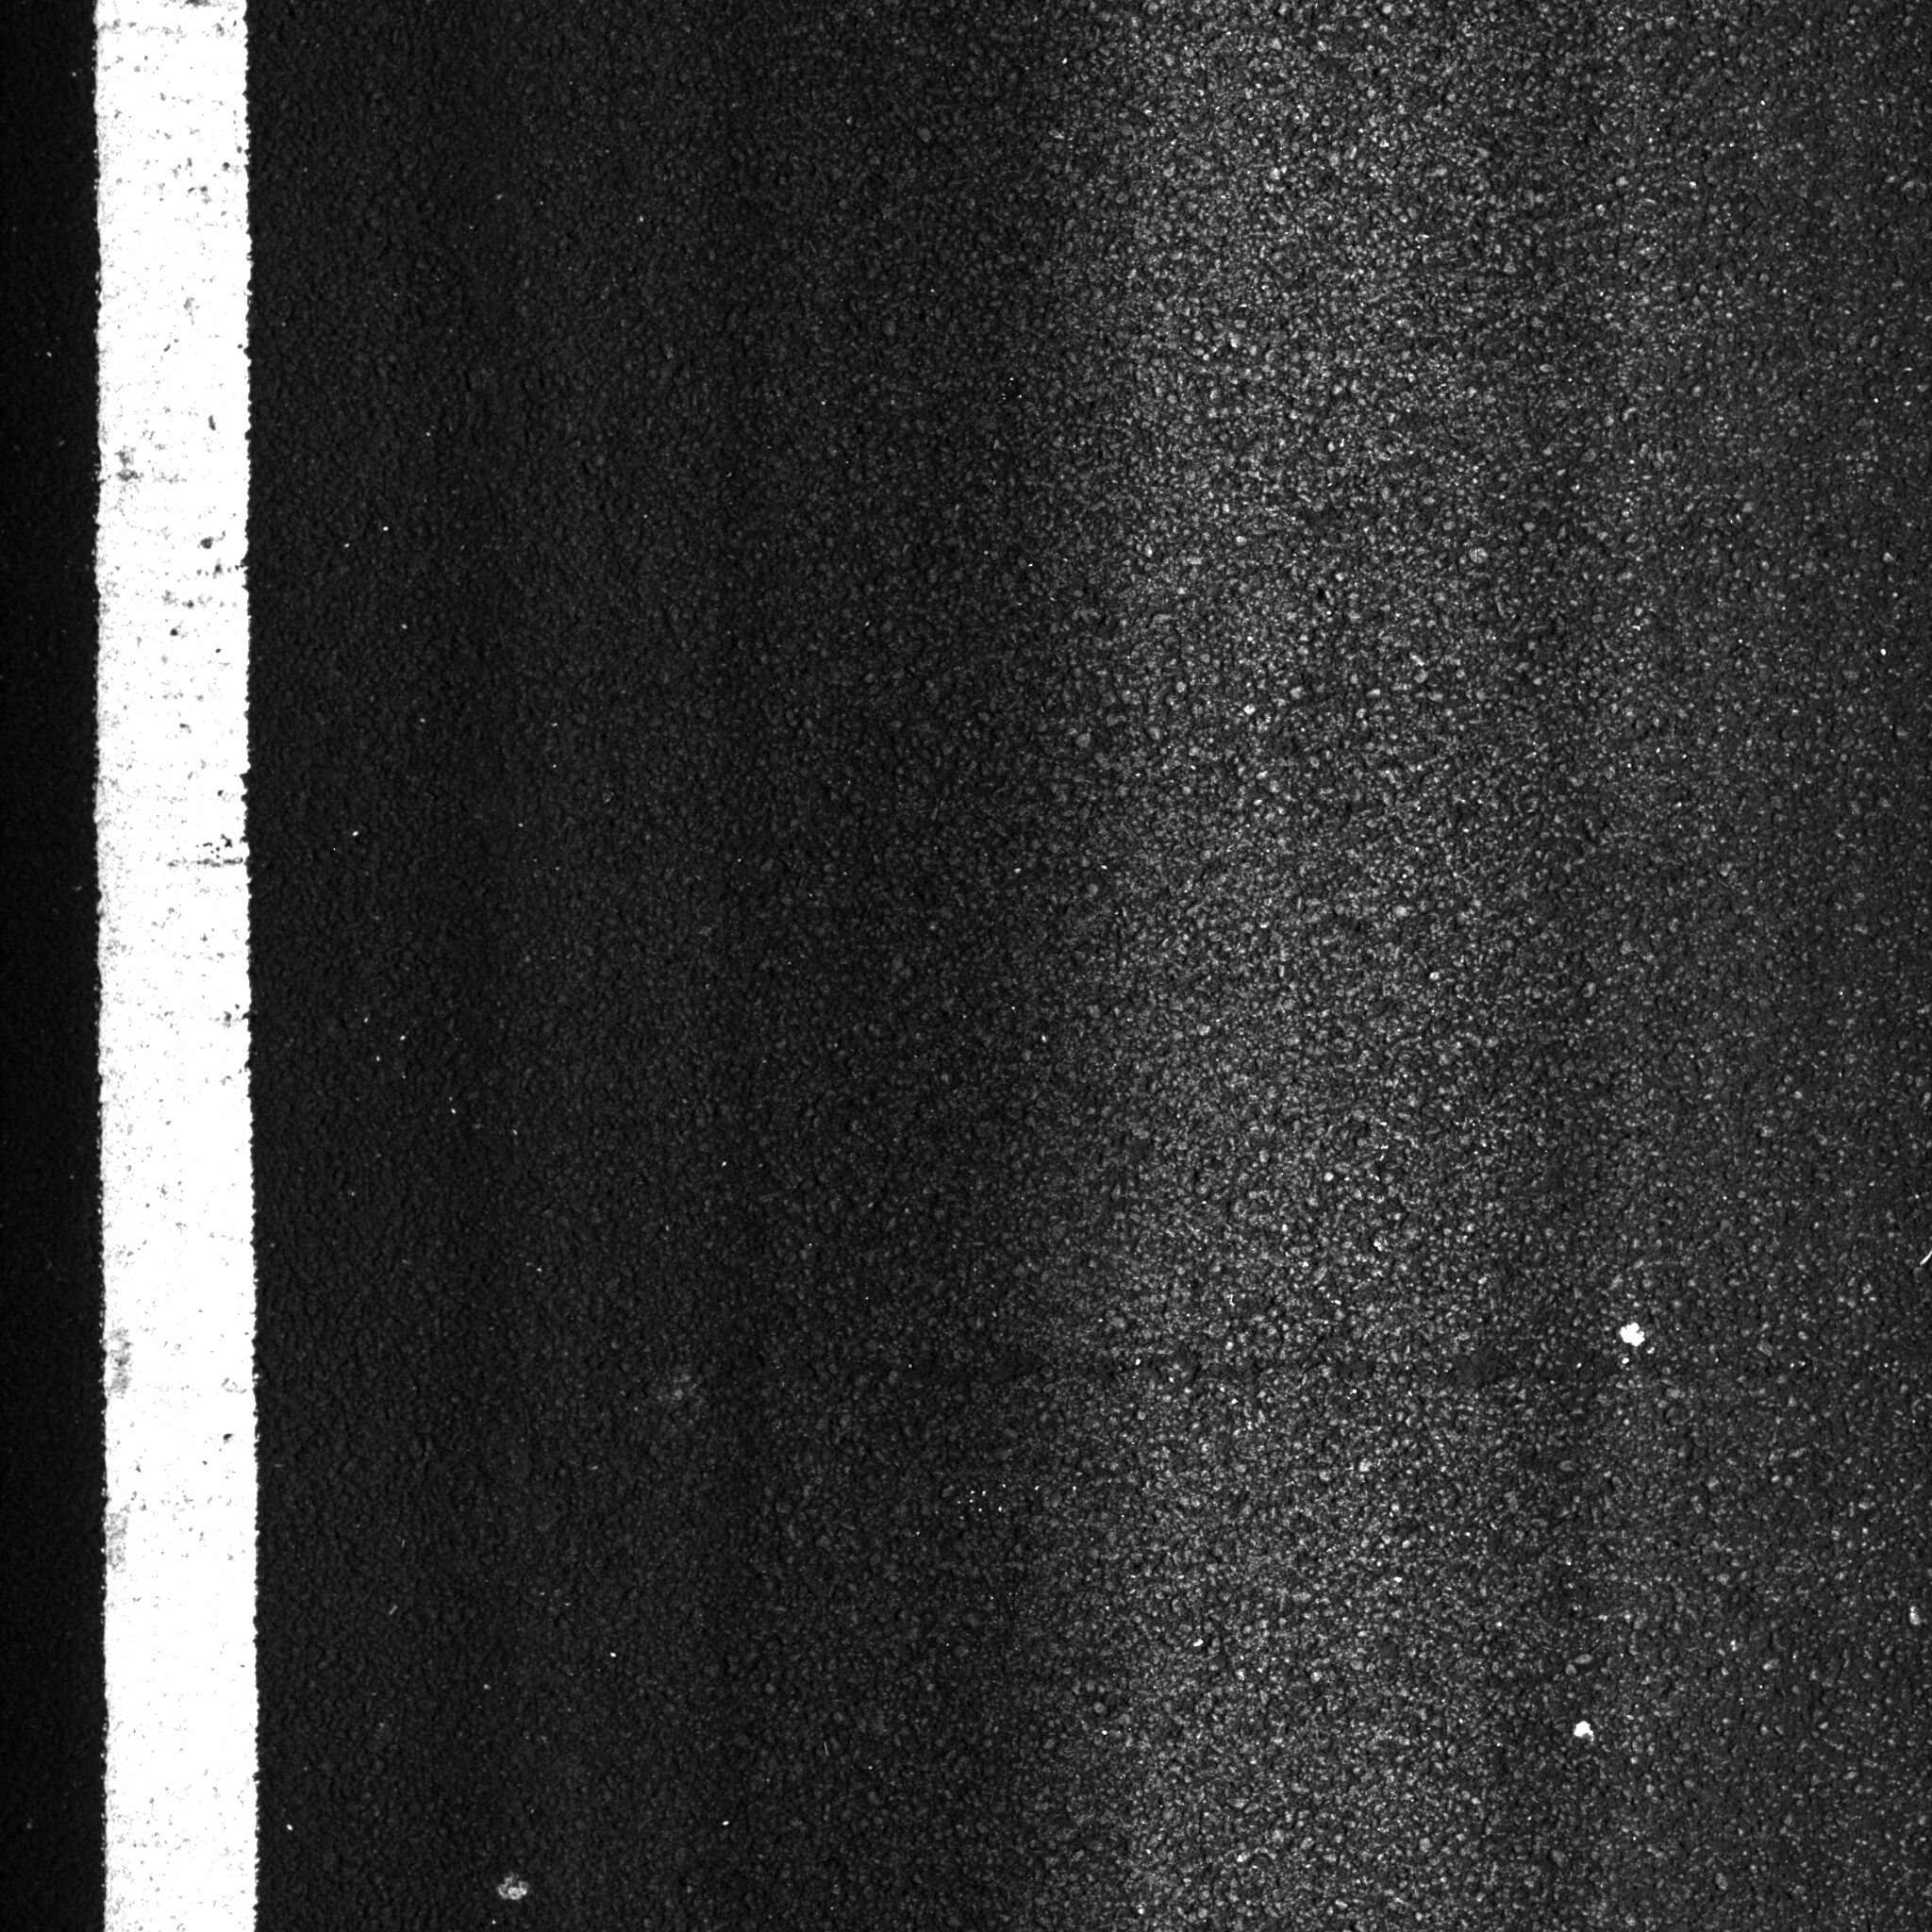transverse: (640, 1320, 1835, 1447)
